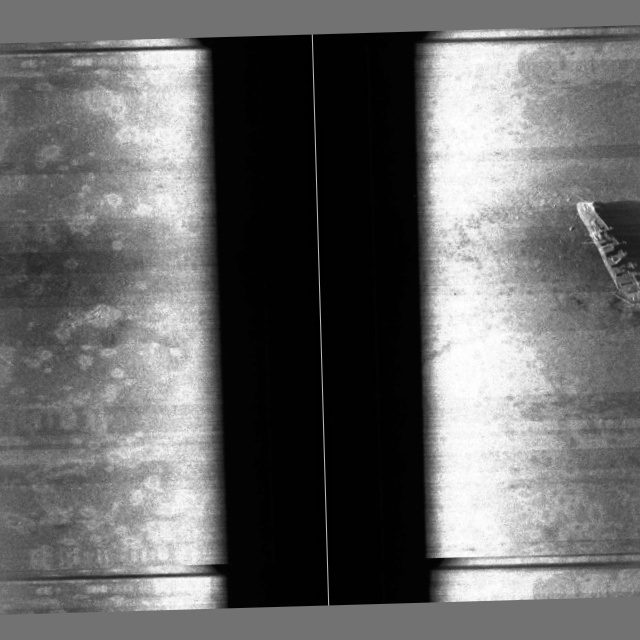Shipwreck: (535, 196, 640, 327)
